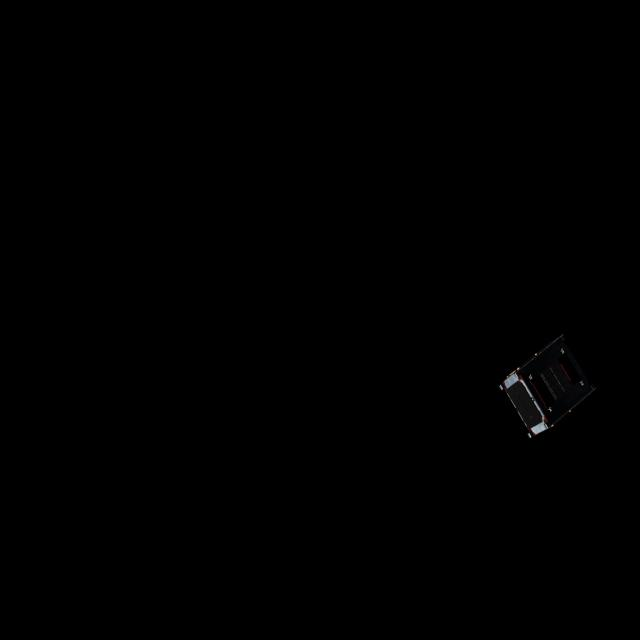medium_debris: (498, 338, 607, 443)
